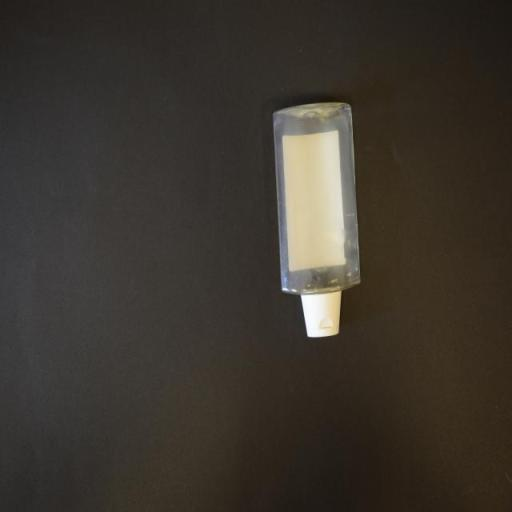plastic: (272, 102, 364, 344)
